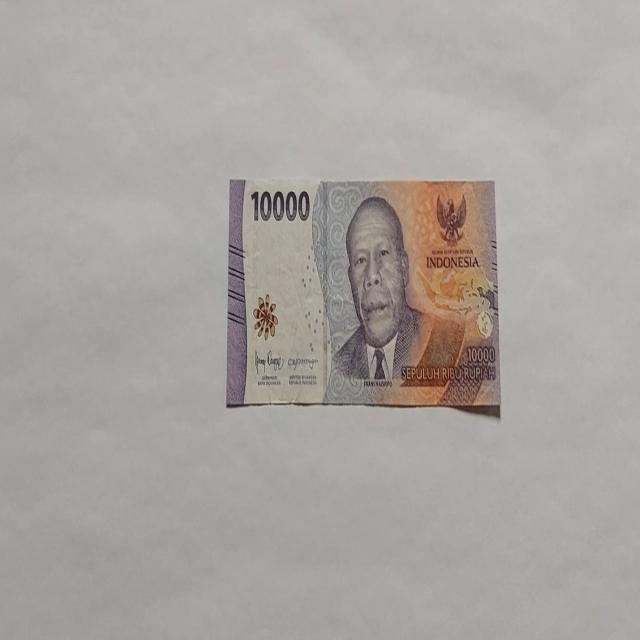sepuluh ribu rupiah: (225, 176, 500, 412), (322, 193, 465, 402)
